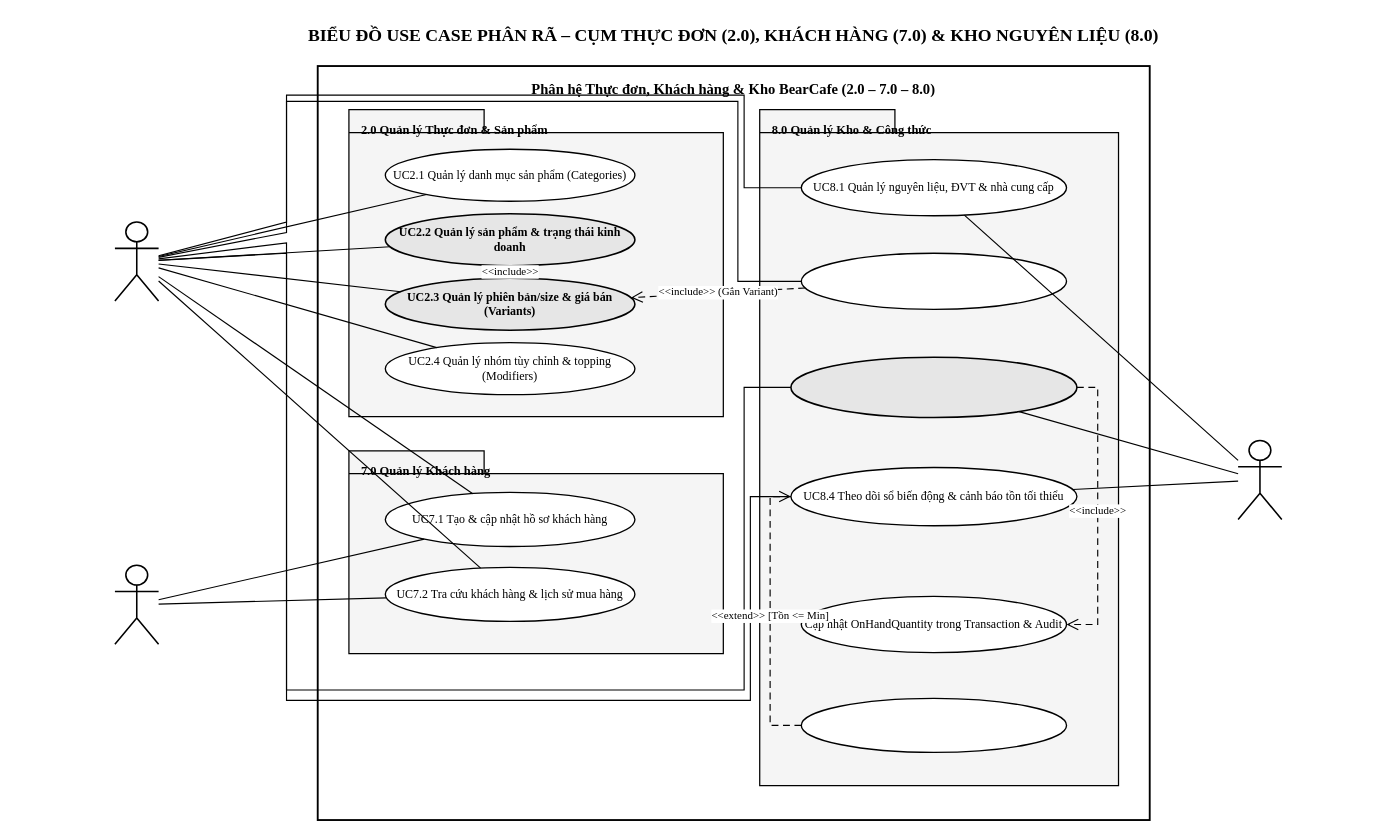
Some shapes in this 1397 by 838 pixel diagram are drawn without their labels. Here are the shapes that lost their labels. From the top down, the centre of each, then its label:
At point 136,261: "Chủ quán (ADMIN) / Quản lý (MANAGER)".
At point 933,281: "UC8.2 Quản lý công thức định lượng (Recipes)".
At point 933,387: "UC8.3 Lập & ghi sổ phiếu biến động kho (Nhập/Xuất/Kiểm)".
At point 1259,479: "Nhân viên kho (INVENTORY_STAFF)".
At point 136,604: "Thu ngân (CASHIER)".
At point 933,725: "Sinh cảnh báo tồn kho dưới MinimumStock".
